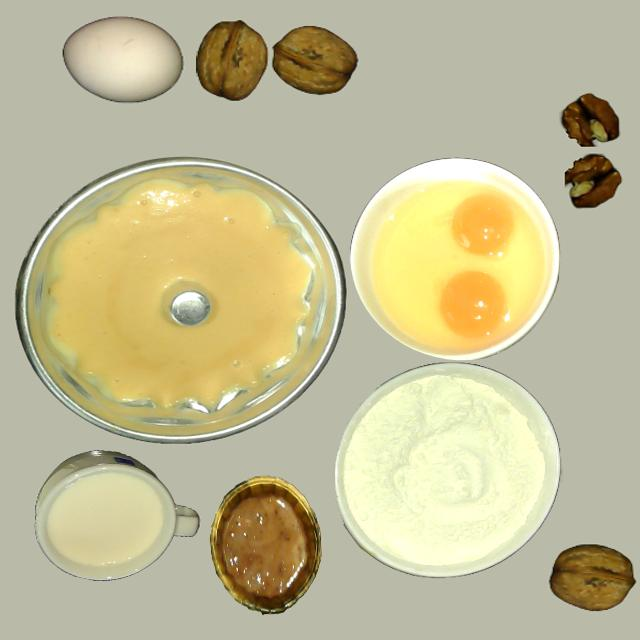Egg: (440, 272, 507, 336), (451, 193, 516, 255)
Flour: (333, 363, 558, 579)
Milk: (50, 475, 159, 566)
Walnut: (273, 25, 357, 95), (195, 21, 268, 100), (548, 544, 634, 611)
